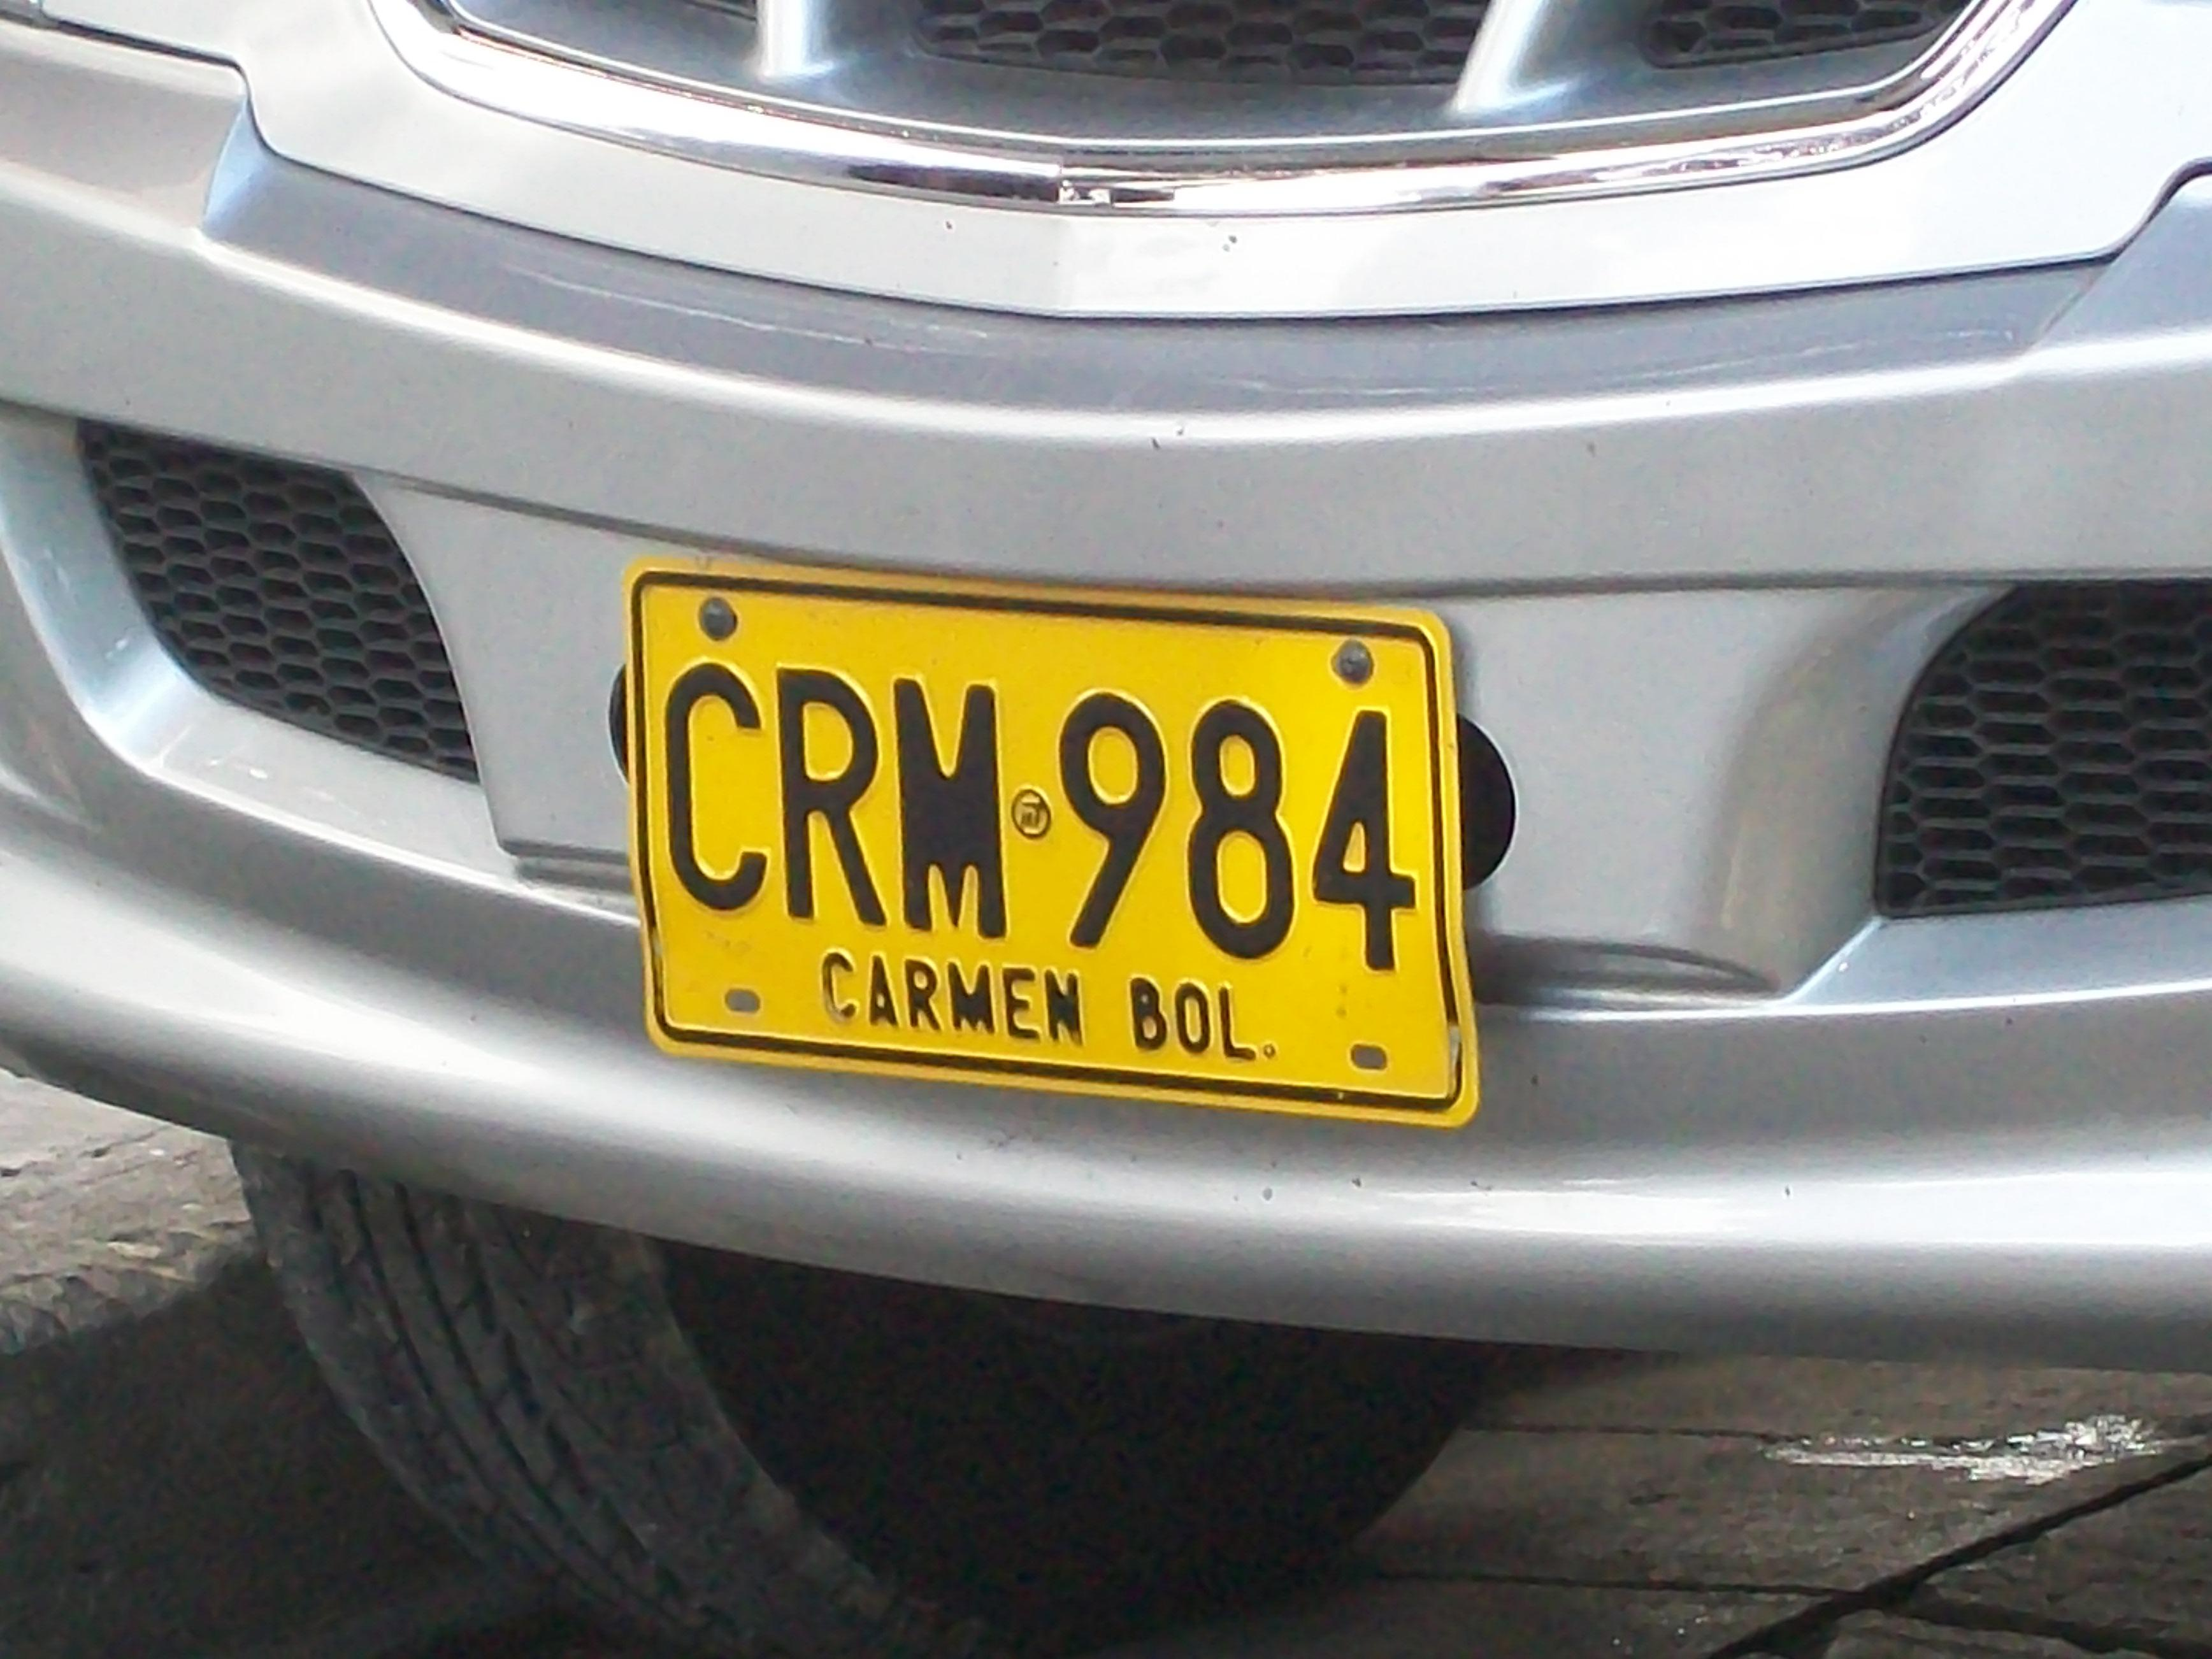placas: (607, 544, 1486, 1137)
